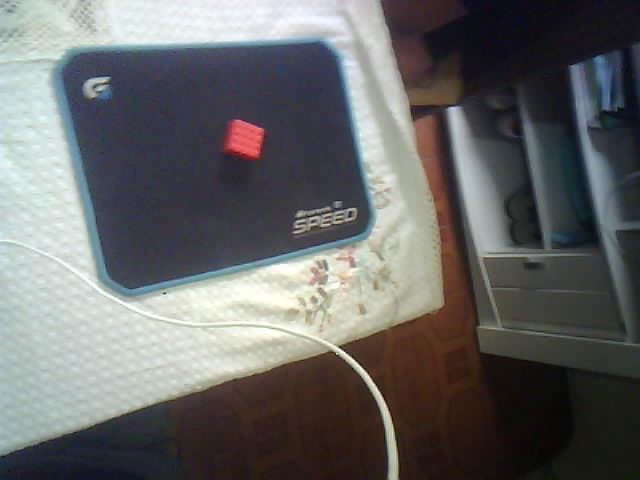lego: (220, 118, 265, 162)
